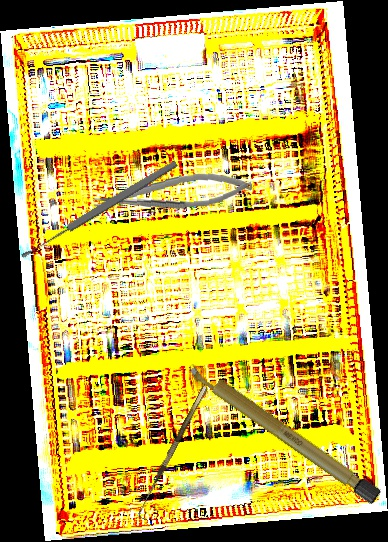Hook Surgical: (134, 385, 215, 521)
Needle Holder: (91, 169, 254, 216)
Scalpel Handle: (183, 358, 383, 506)
Surgical Spoon: (19, 158, 179, 261)
